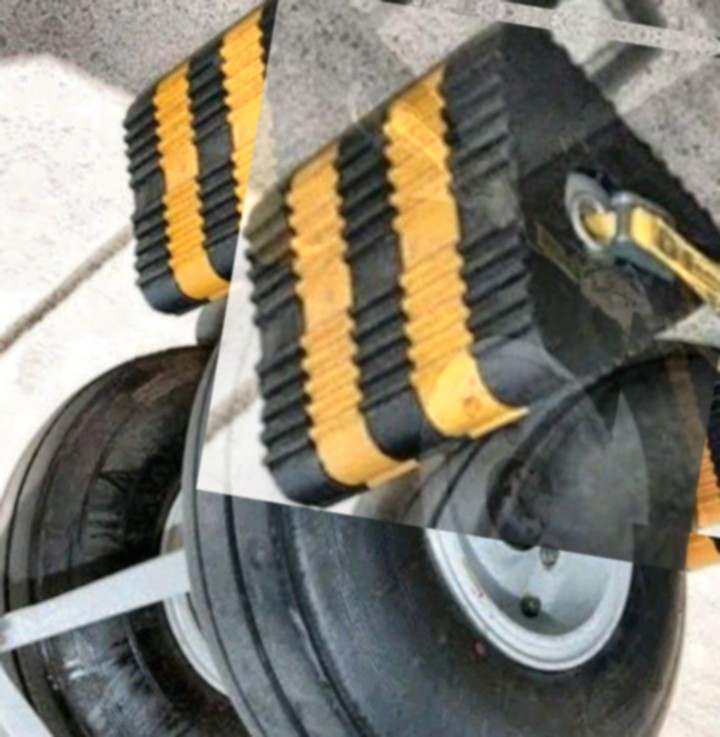chock: (196, 0, 720, 571), (90, 0, 487, 359), (579, 336, 720, 592), (599, 312, 720, 549), (626, 230, 720, 389)
wheel: (136, 183, 720, 737), (0, 328, 326, 737)
